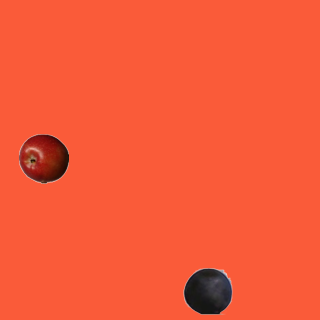Apple Braeburn: (18, 133, 68, 183)
Grape Blue: (182, 265, 232, 315)
